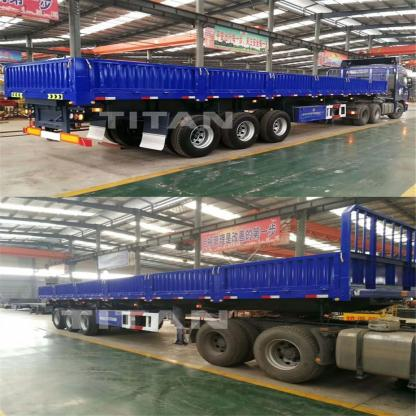dump_truck: (19, 209, 416, 396), (6, 36, 415, 157)
